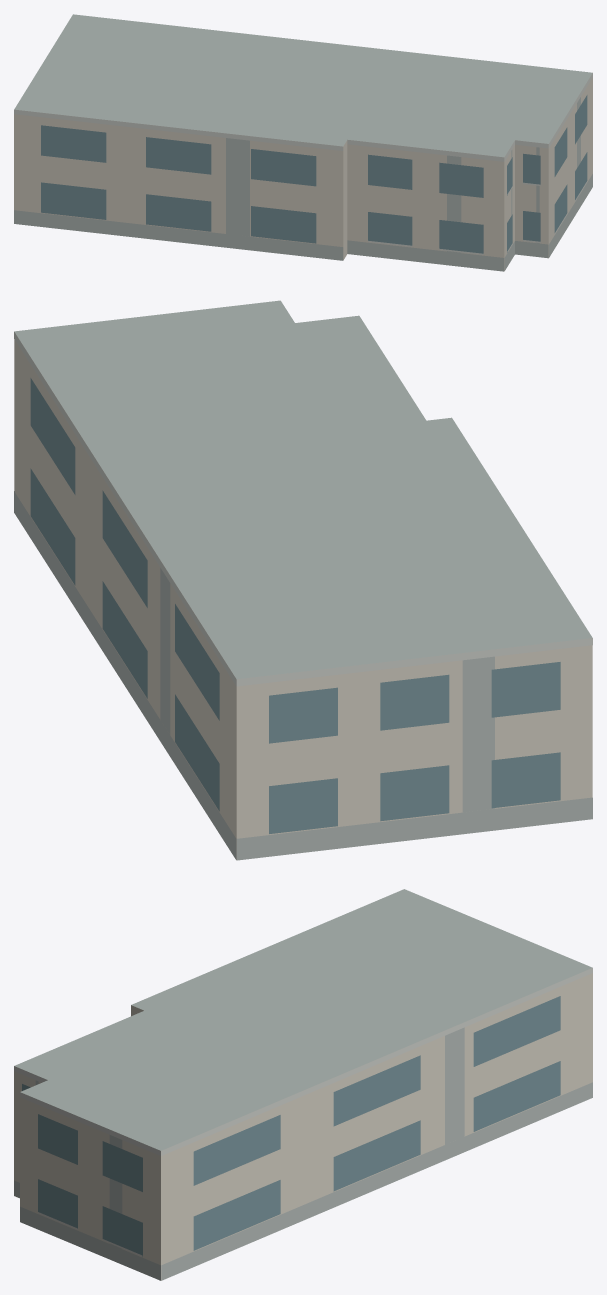
Rendered from survey-upis-32733540.glb.
3 views of the same model, one above another, from view 1: azimuth 30°, elevation 25°; view 2: azimuth 150°, elevation 25°; view 3: azimuth 270°, elevation 25° (orthographic). The views are drawn at different scales.
Parts seen in each view (by area): view 1: survey-upis-32733540.tmp; view 2: survey-upis-32733540.tmp; view 3: survey-upis-32733540.tmp.
Boxes of the visible parts, <box> form: survey-upis-32733540.tmp: <box>14,14,592,271</box>; survey-upis-32733540.tmp: <box>14,300,592,860</box>; survey-upis-32733540.tmp: <box>14,889,592,1280</box>.
Bounding box in the file's own units: 26.37 × 6.1 × 24.63.
